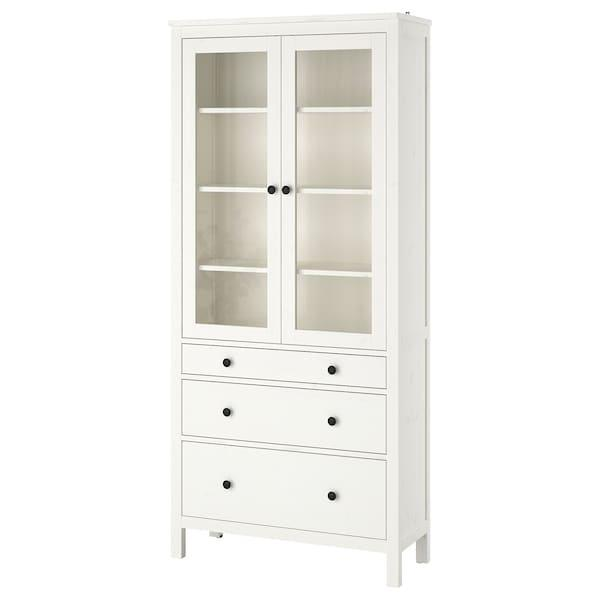cabinet_door: (286, 30, 394, 342), (189, 34, 284, 338), (183, 459, 385, 530), (184, 389, 382, 444), (184, 347, 384, 381)
handle: (326, 485, 340, 507), (326, 412, 340, 433), (220, 476, 235, 495), (221, 403, 235, 422), (267, 181, 278, 201), (282, 182, 293, 201), (221, 355, 234, 371), (327, 362, 339, 378)
